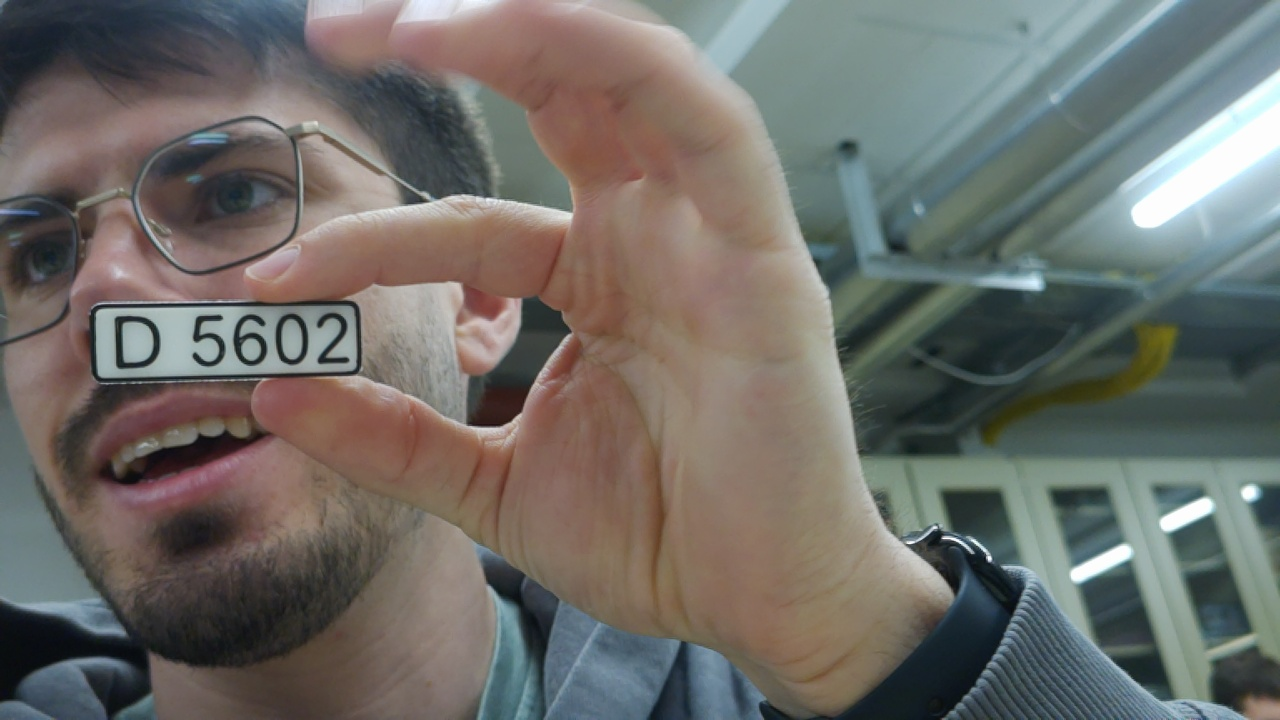license_plate: (84, 288, 376, 387)
